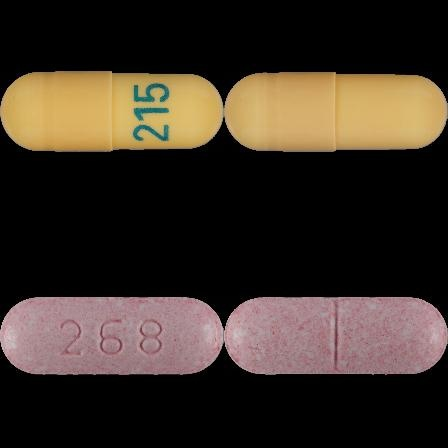58118-0226: (0, 0, 224, 224)
